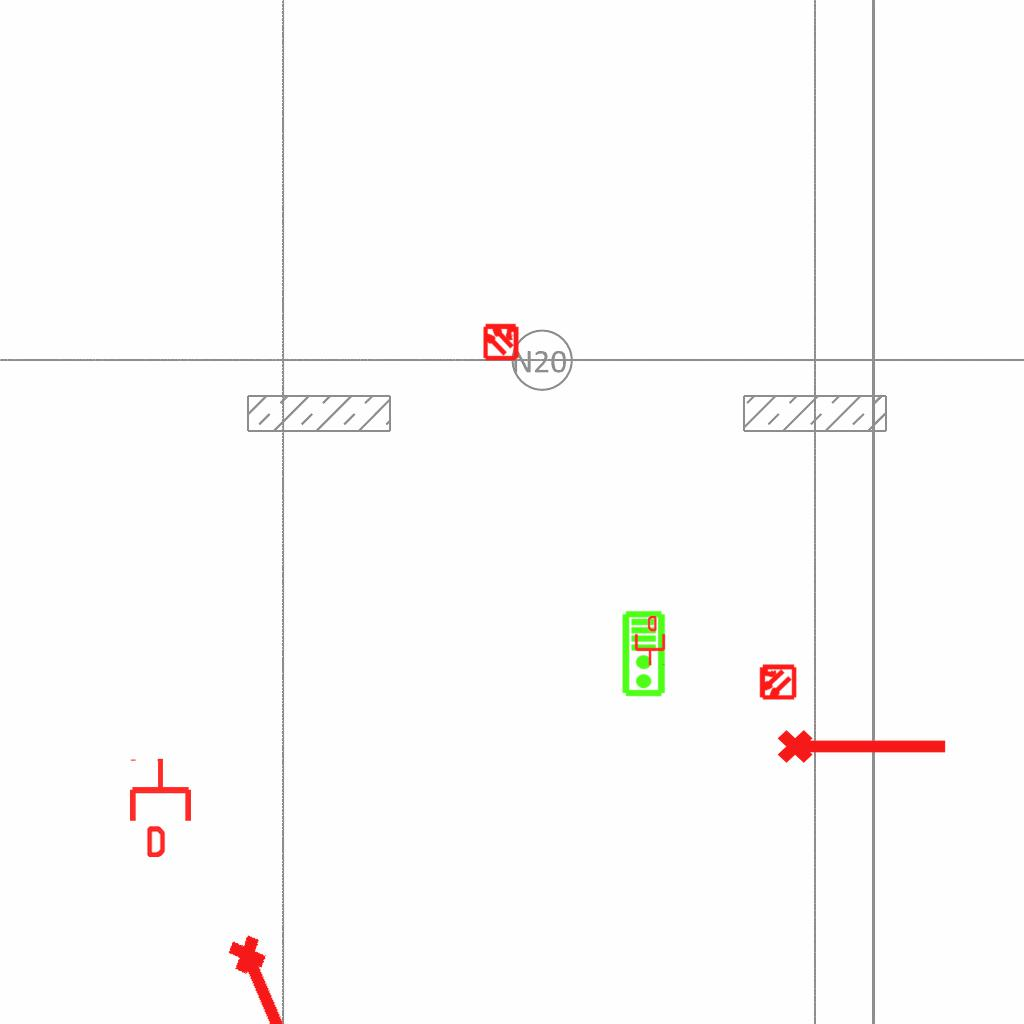ASR_Ansaugoeffnung: (220, 926, 332, 1024), (775, 721, 951, 767)
Datenanschluss_einfach: (126, 757, 195, 857), (633, 616, 667, 666)
Gegensprechanlage_mit_Video: (621, 610, 668, 698)
OT_Multisensormelder_(Kombination_RMO_WMD): (473, 313, 529, 369), (749, 654, 805, 710)
